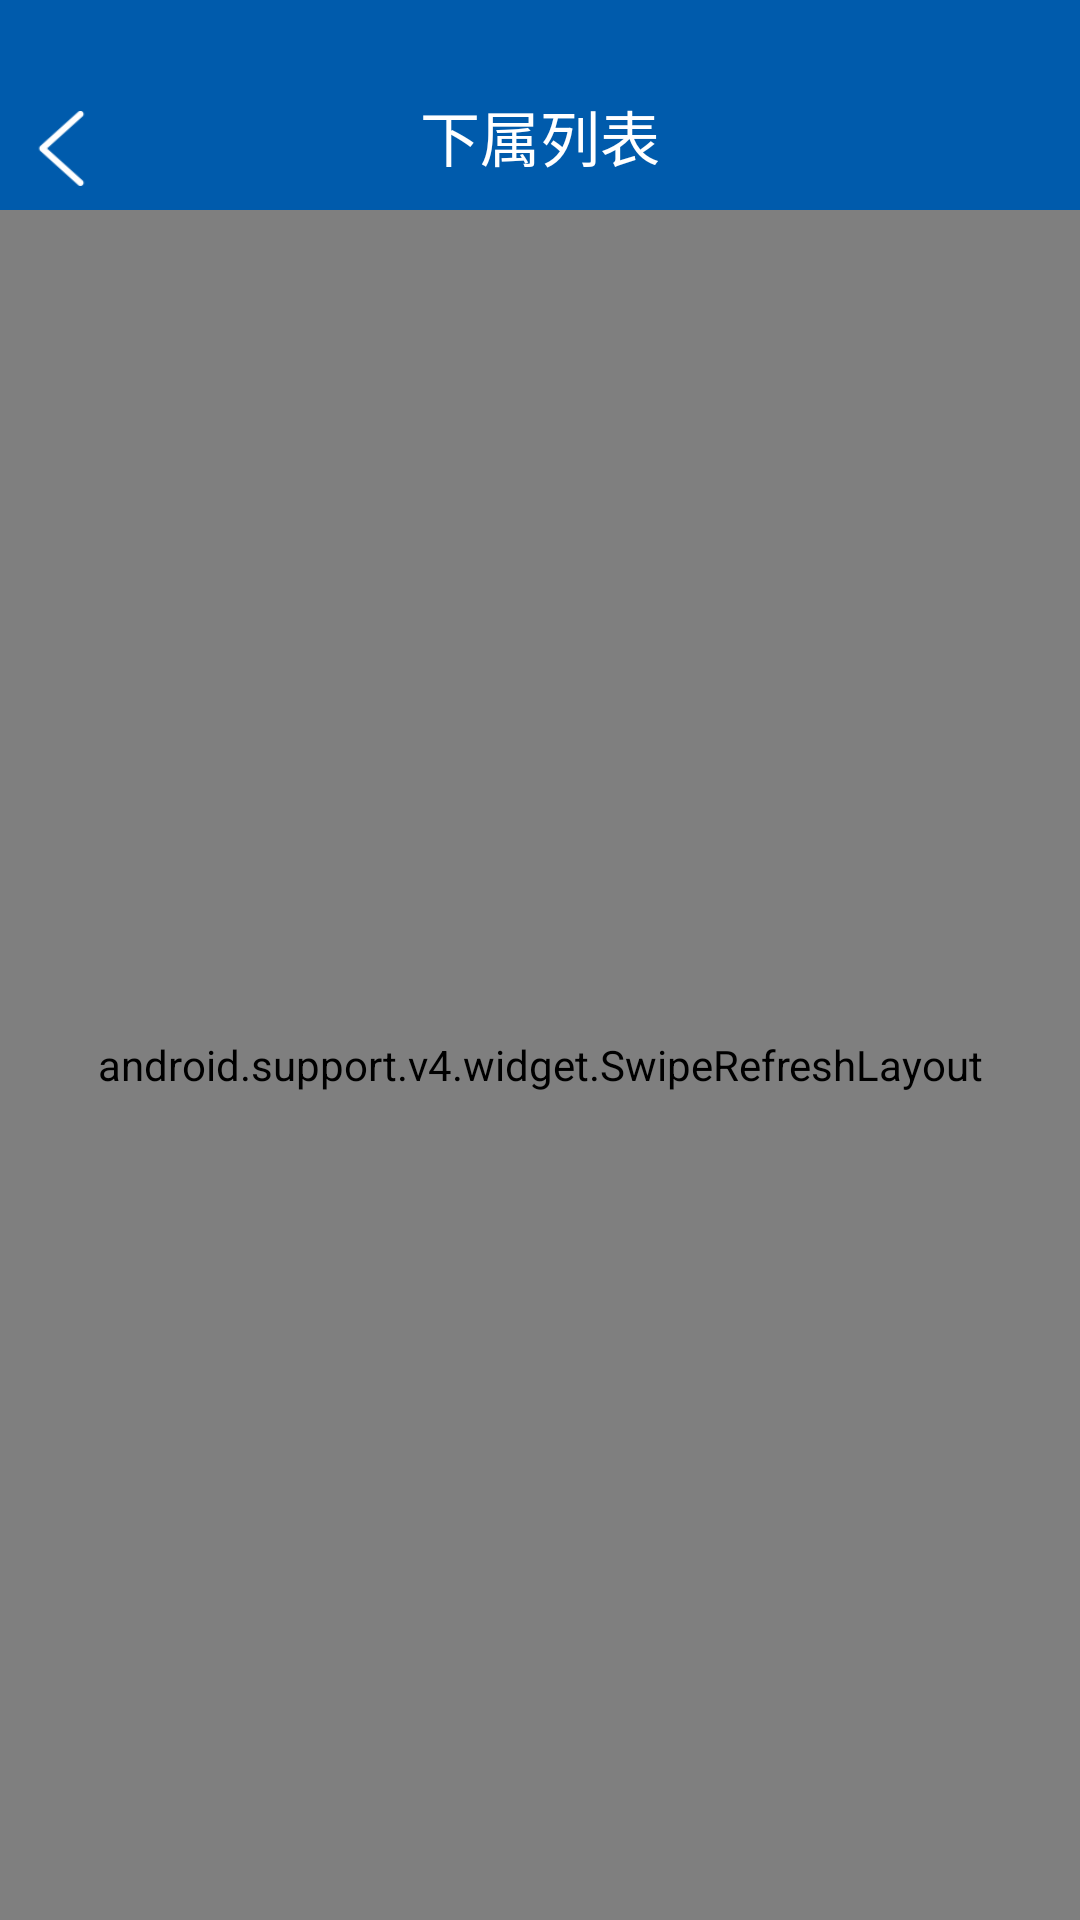

Named icons in this screenshot (1080px×1920px) and their bounding boxes, box=[x1, y1, x2, y2]:
huibao fanhui: box=[38, 111, 84, 186]
